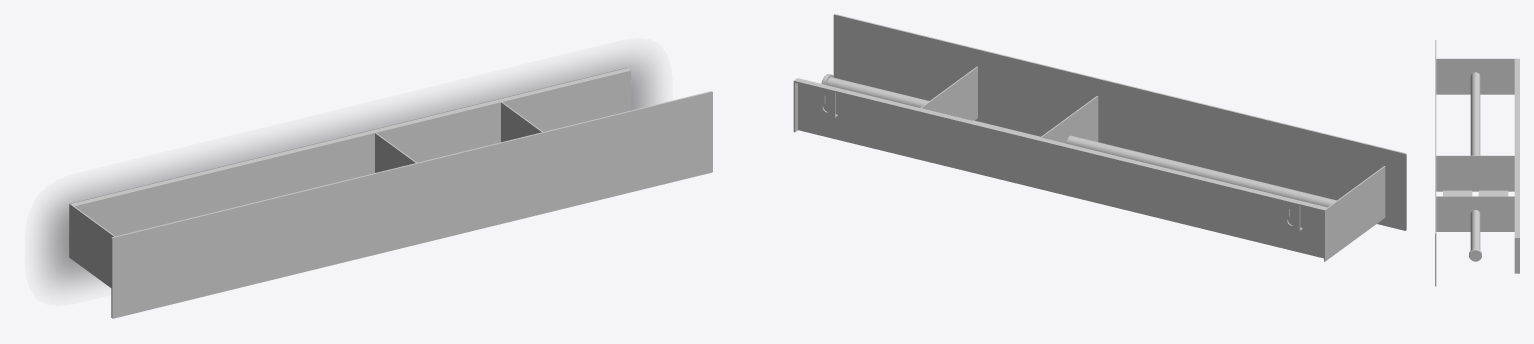
The model's file is skyline-trio.57671b9a29.ar.glb.
The picture shows the model from 3 angles, left to right: view 1: azimuth 30°, elevation 25°; view 2: azimuth 150°, elevation 25°; view 3: azimuth 270°, elevation 25°; orthographic projection. The views are drawn at different scales.
Visible parts, largest first — view 1: NAUO1, object 2; view 2: NAUO1; view 3: NAUO1.
Boxes of the visible parts, x1,y1,x2,y2 form: NAUO1: [69, 67, 712, 318]; object 2: [41, 57, 656, 286]; NAUO1: [793, 14, 1406, 261]; NAUO1: [1435, 40, 1519, 286].
Size of the model in its own units: 0.78 by 0.17 by 0.13.
Materials: 2 (1 with a texture image).
